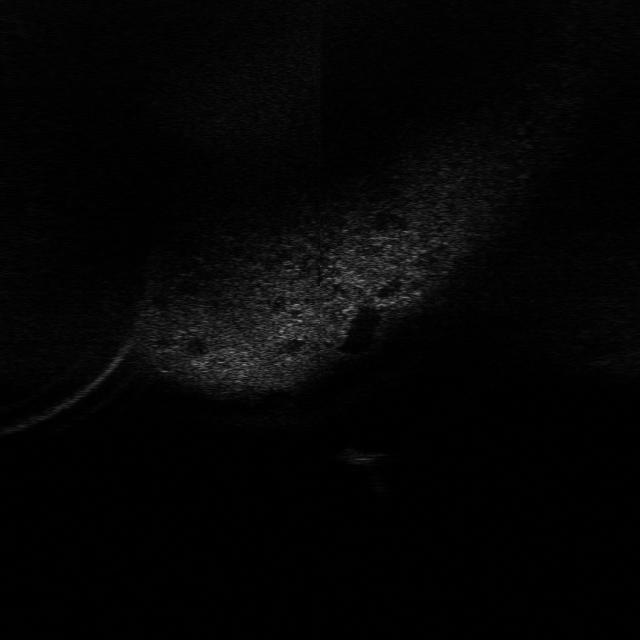cube: (333, 442, 386, 470)
